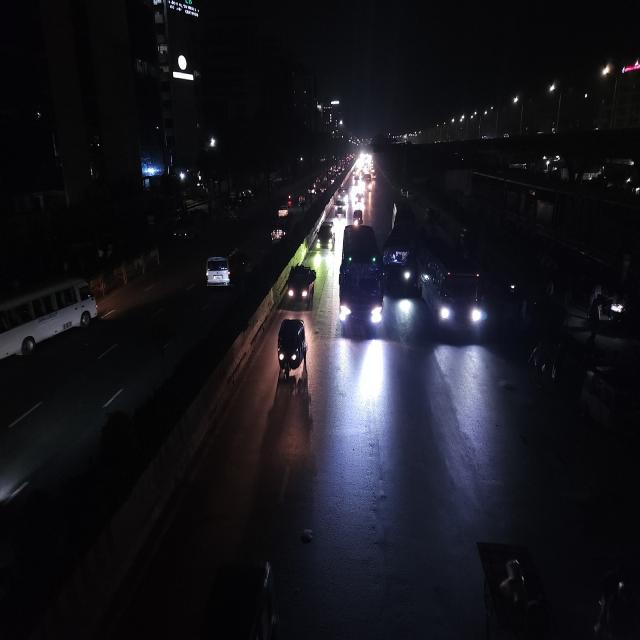bus: (0, 272, 99, 371), (418, 236, 487, 346), (337, 221, 383, 339), (382, 204, 418, 295)
car: (202, 241, 250, 299), (284, 262, 318, 311), (316, 219, 336, 252), (268, 220, 288, 246), (276, 203, 292, 219), (333, 199, 348, 216), (352, 208, 364, 225), (354, 190, 364, 208), (353, 172, 362, 187)
cng: (274, 314, 310, 390), (400, 186, 410, 199)
